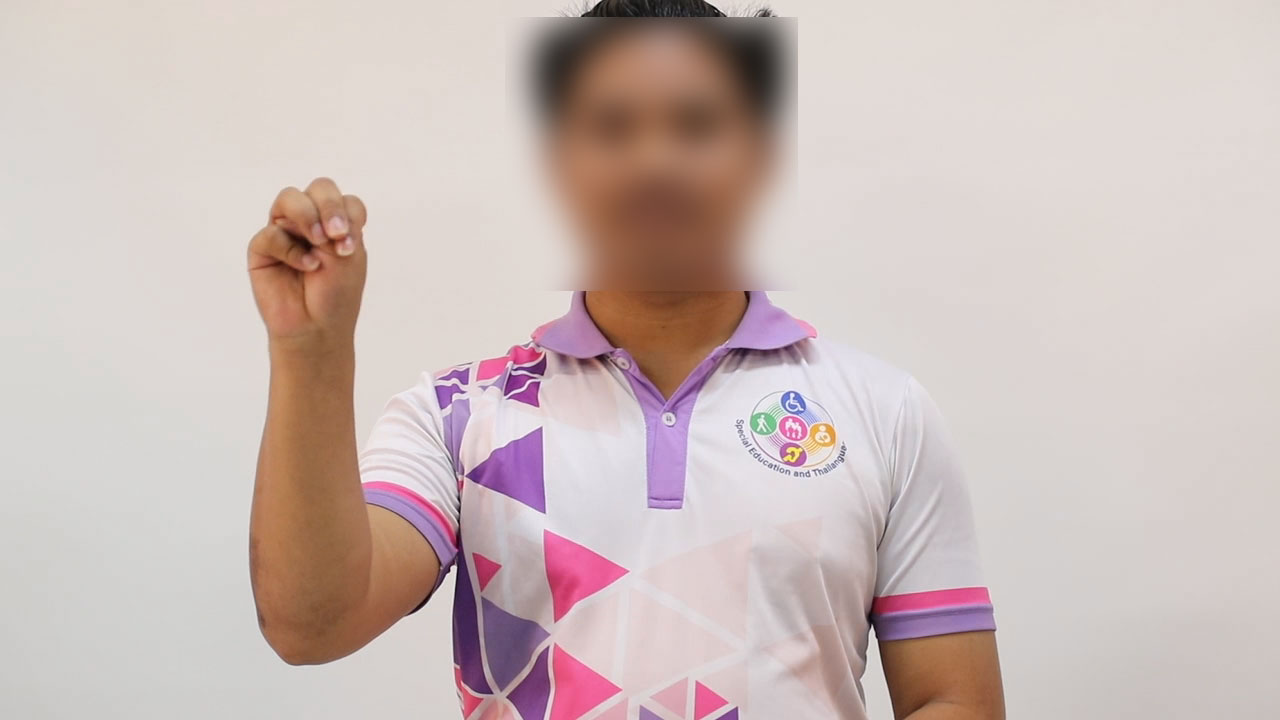mor: (235, 165, 397, 362)
